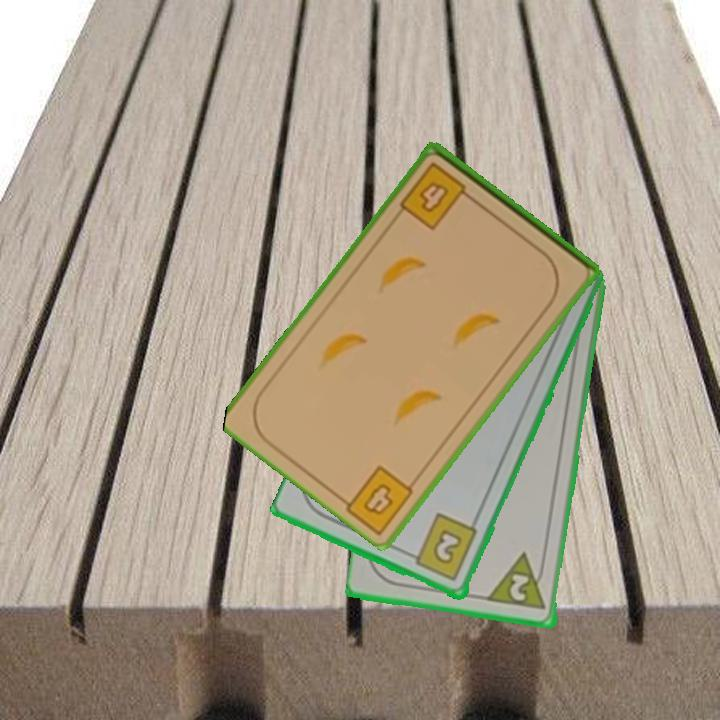2b: (404, 511, 480, 585)
2p: (486, 550, 550, 613)
4b: (396, 159, 478, 233), (359, 480, 397, 519)
